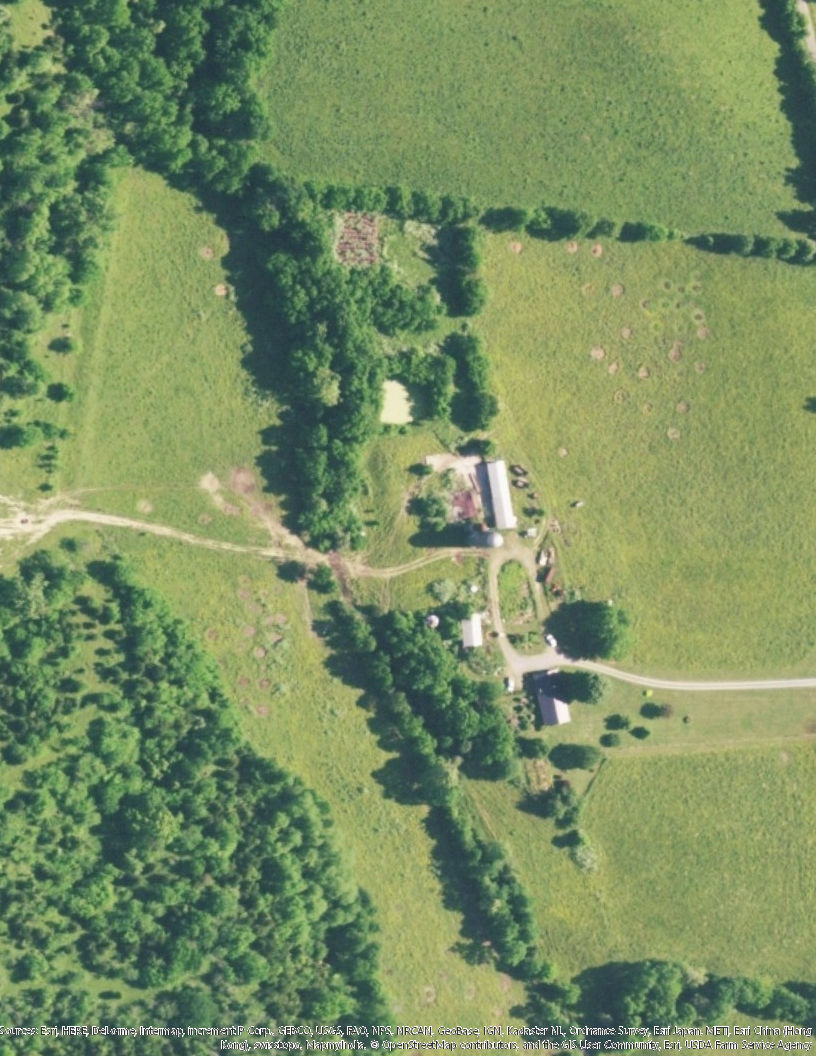cafo: (475, 453, 529, 547), (521, 668, 580, 731), (459, 609, 492, 648)
